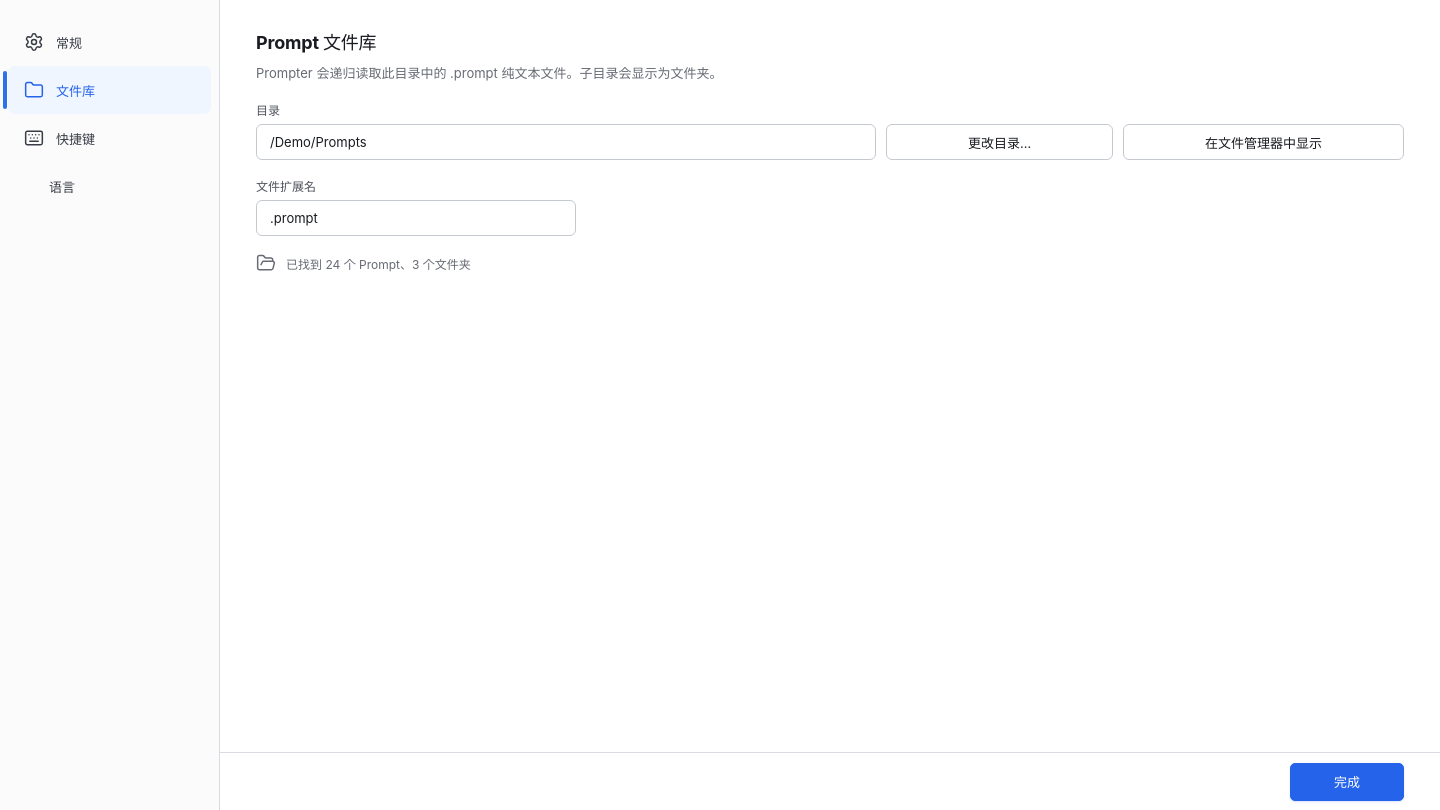
Scenario: Settings › restores confirmed settings with a Chinese update error
Click the button "常规".
click(110, 42)  # box x1=8 y1=18 x2=211 y2=66
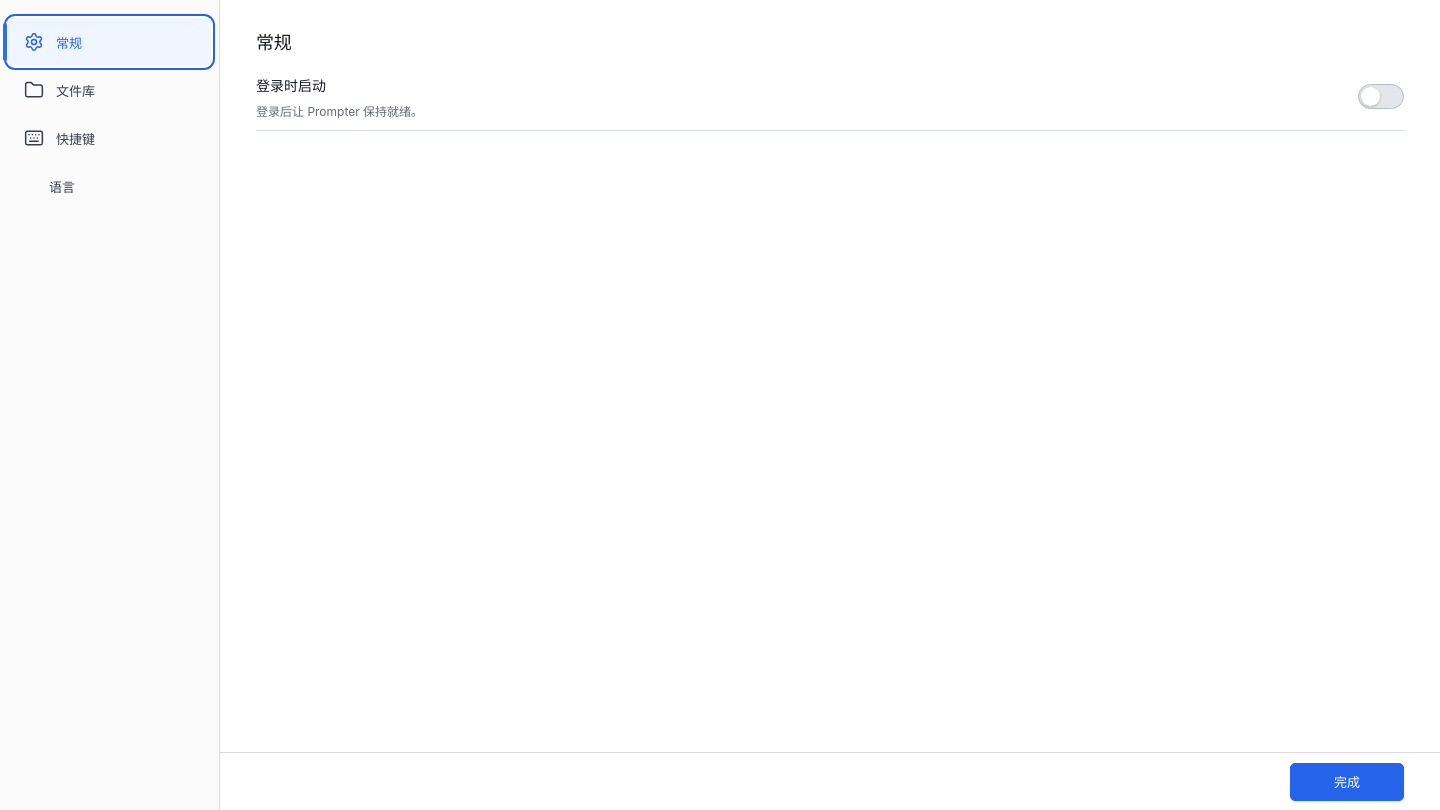
Click the switch named "登录时启动".
click(1381, 96)  # box x1=1358 y1=84 x2=1404 y2=109
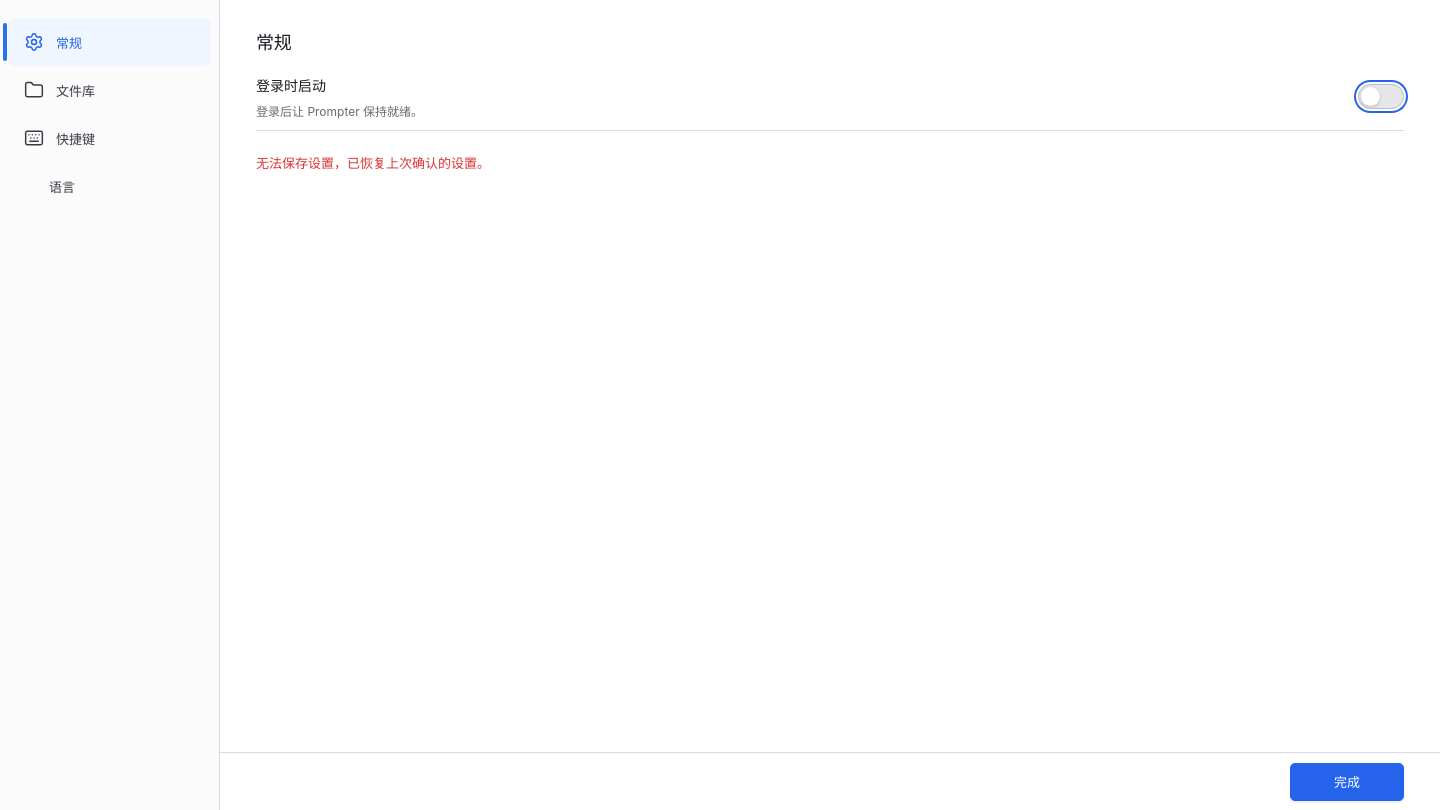
Check: the switch named "登录时启动" is not checked, box x1=1358 y1=84 x2=1404 y2=109
Check: the text "无法保存设置，已恢复上次确认的设置。" is shown, box x1=256 y1=155 x2=490 y2=171
